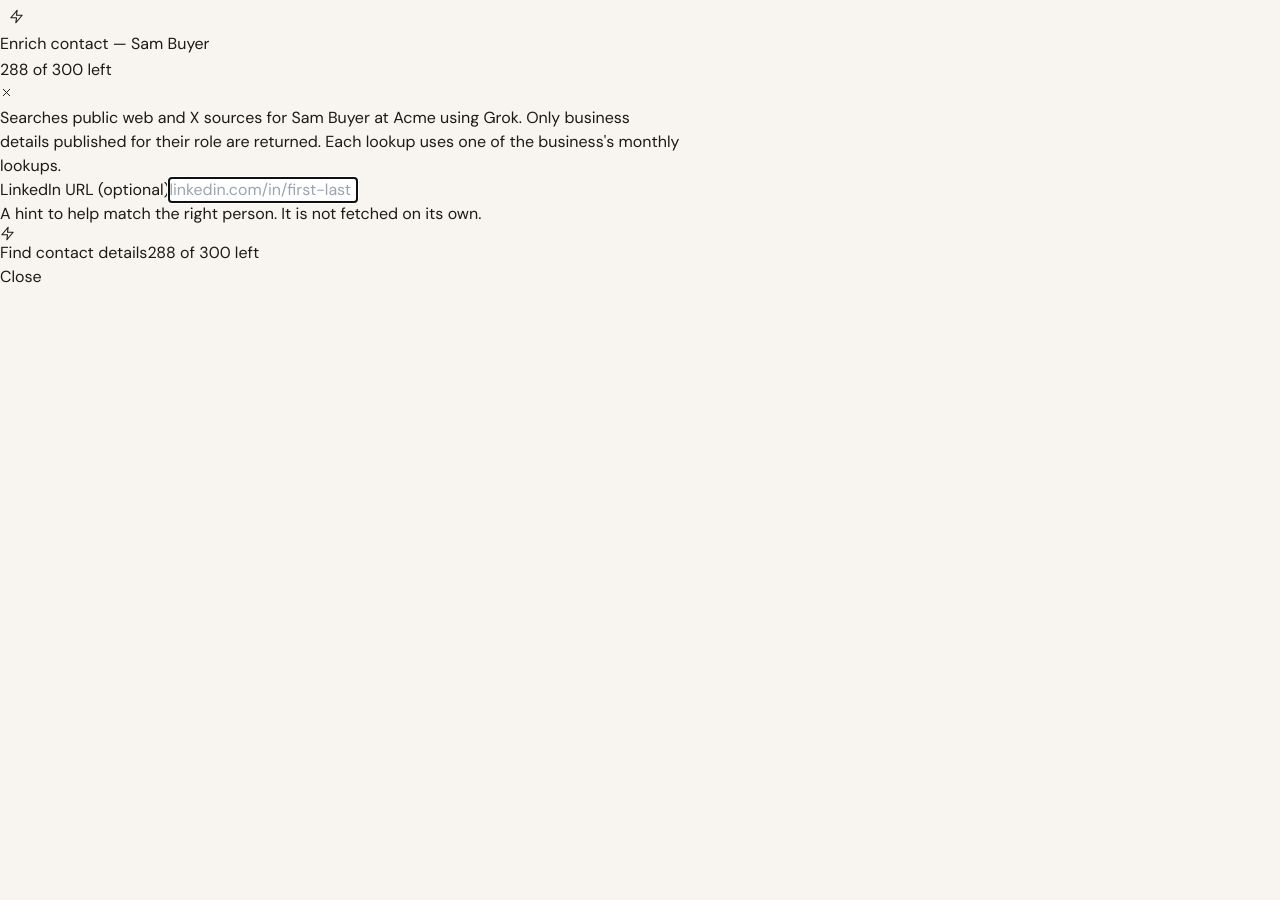
Scenario: Enrich modal › explains the monthly cap, with the reset date, and does not offer to look up
Click the button "Find contact details".
click(74, 246)  # box [0,226,147,265]
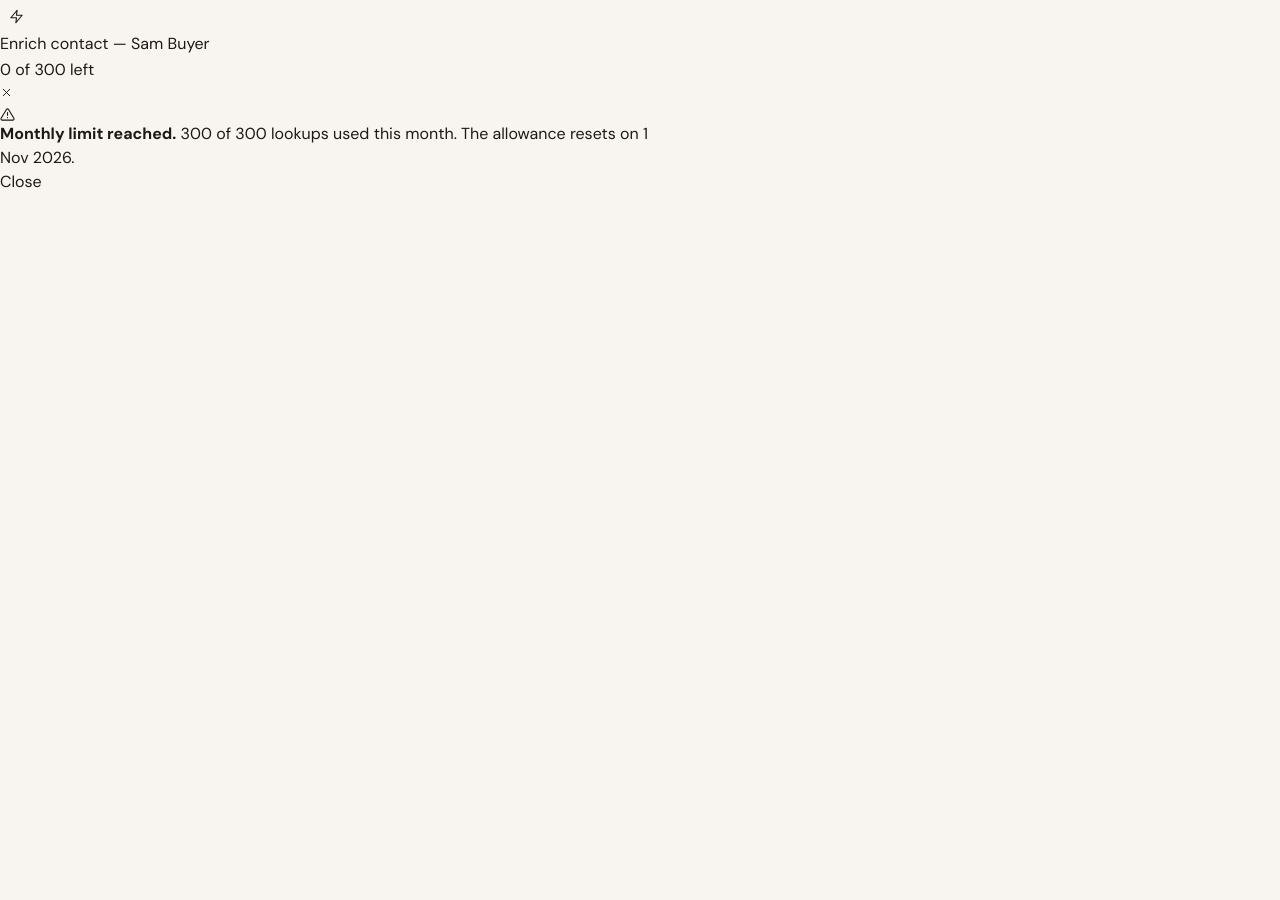
Now the text "Monthly limit reached" is shown, box [0,123,176,144]
Now the text "1 Nov 2026" is shown, box [0,123,648,168]
